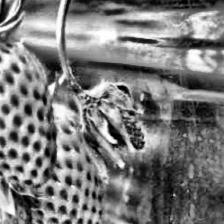Gray Mold: (64, 67, 147, 185)
